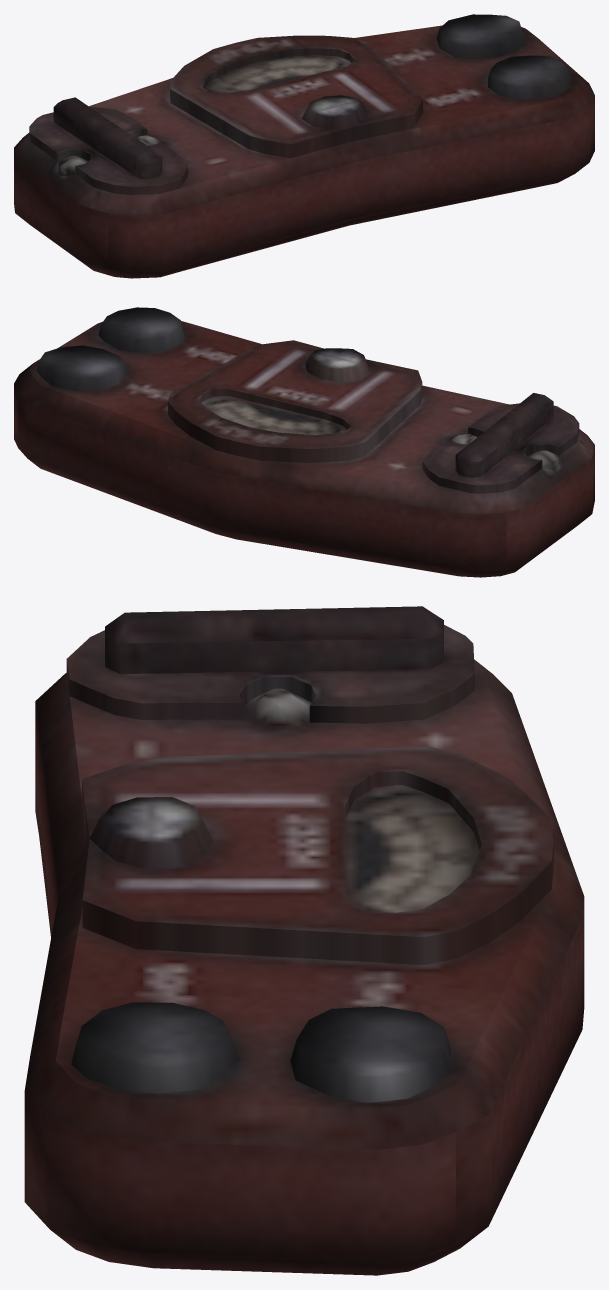
The model's file is dosimeter_1.obj.
The picture shows the model from 3 angles, top to bottom: view 1: azimuth 30°, elevation 25°; view 2: azimuth 150°, elevation 25°; view 3: azimuth 270°, elevation 25°; orthographic projection. The views are drawn at different scales.
Visible parts, largest first — view 1: dosimeter_1; view 2: dosimeter_1; view 3: dosimeter_1.
Part boxes in pixels (box(x1,y1,x2,y2)): dosimeter_1: box(14, 14, 594, 278); dosimeter_1: box(14, 307, 594, 577); dosimeter_1: box(24, 606, 584, 1275).
Size of the model in its own units: 9.91 by 2.1 by 4.67.
1 material, 1 textured.
